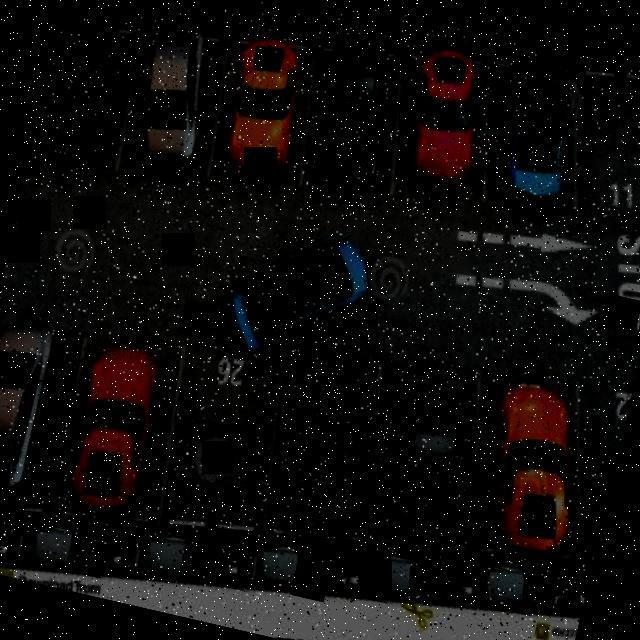car: (450, 341, 626, 579), (240, 323, 402, 561), (188, 194, 395, 376), (36, 321, 194, 544), (352, 355, 507, 571), (105, 2, 239, 206), (472, 36, 606, 228), (193, 21, 328, 210), (26, 0, 156, 191), (382, 26, 508, 216), (293, 15, 417, 202), (0, 290, 95, 523)
free: (148, 344, 294, 548), (546, 376, 632, 558), (558, 66, 640, 246)
